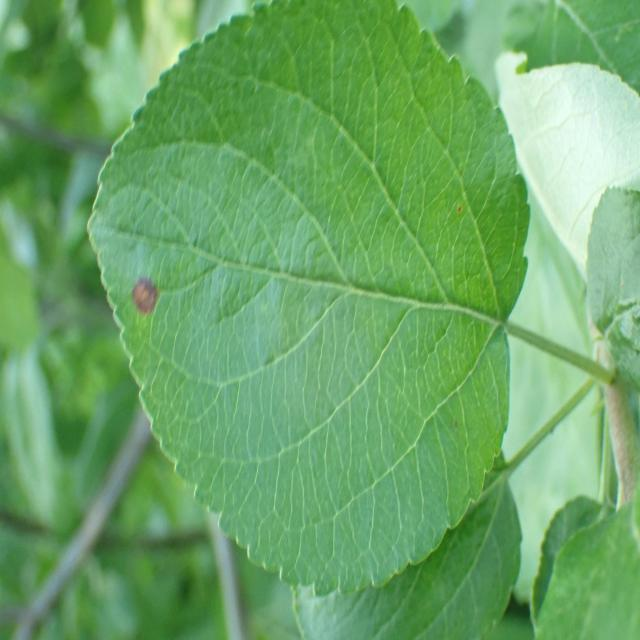Black Rot: (116, 259, 176, 327)
